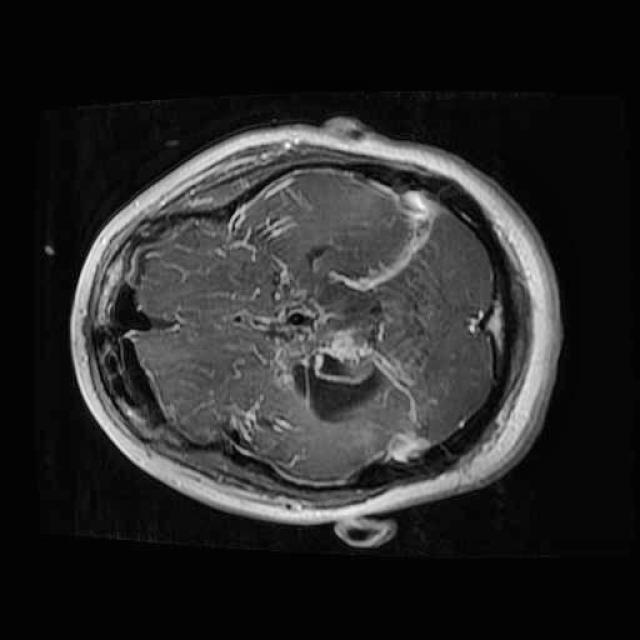Tumor: (263, 272, 441, 444)
